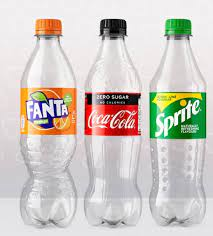plastic_bottle: (82, 17, 148, 231), (147, 14, 212, 228), (20, 17, 80, 231)
